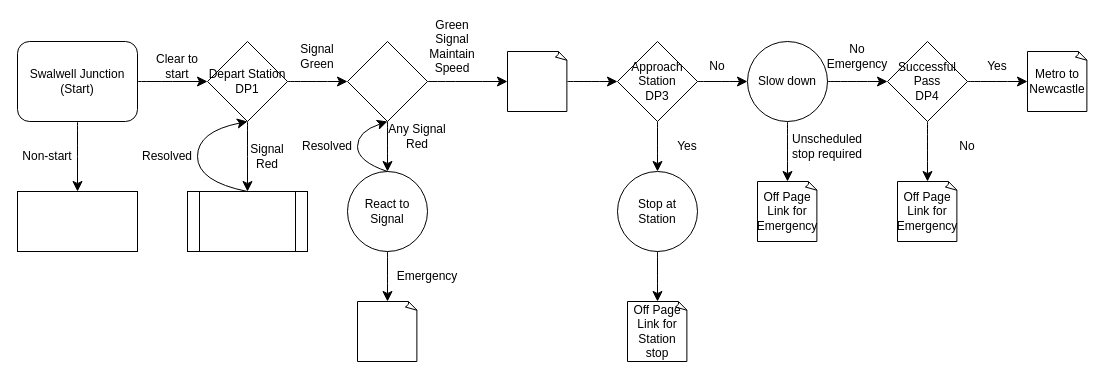
This 1105x379 diagram has some shape labels left out. Here are the shapes that lost their labels. From the top down, the centre of each, then its label:
At (387,81): "Cruise Speed DP2".
At (537,81): "Off Page Link for each Signal".
At (77,221): "Abort".
At (247,221): "Wait".
At (387,331): "Off Page Link".
